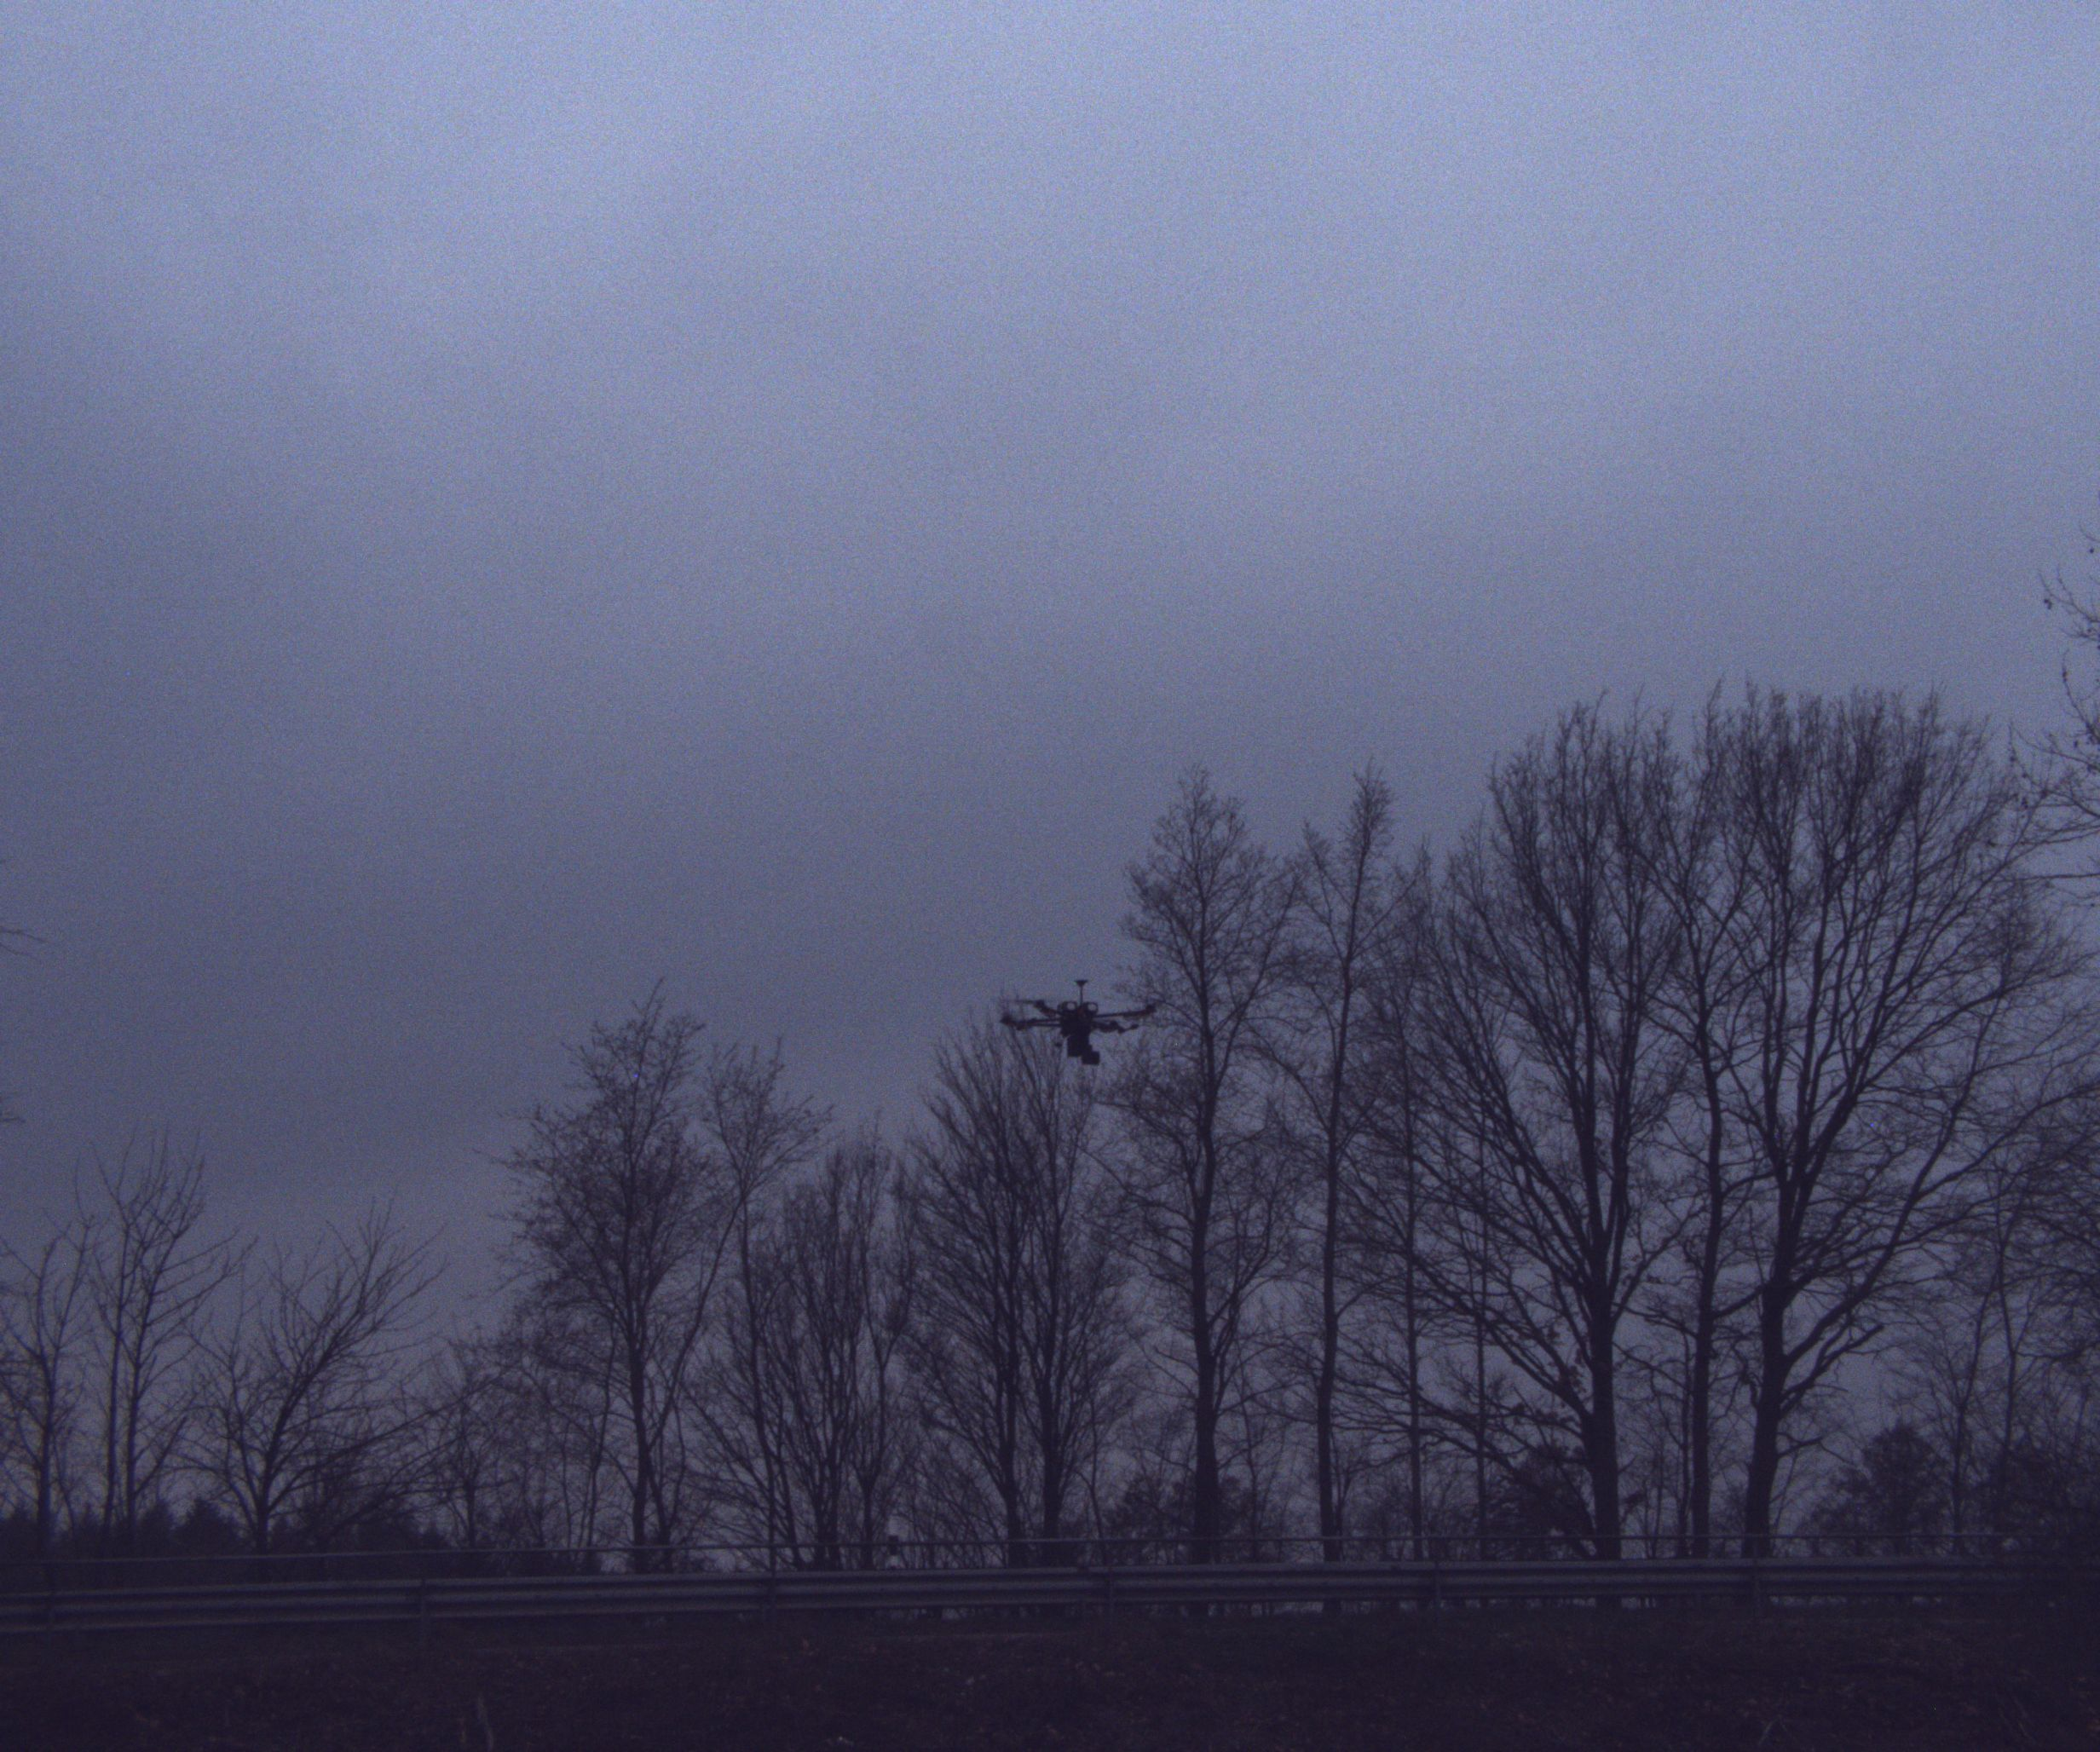Drohne: (966, 947, 1195, 1090)
